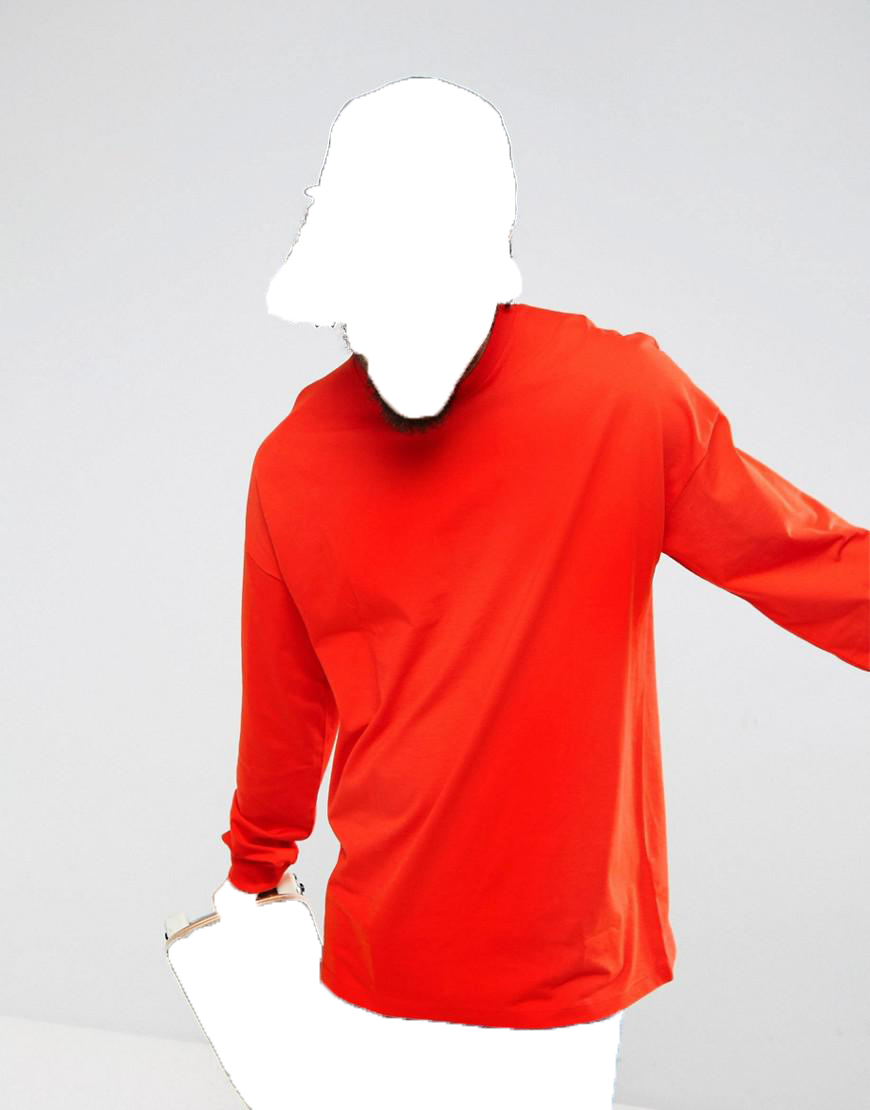teeshirt: (218, 300, 870, 1053)
